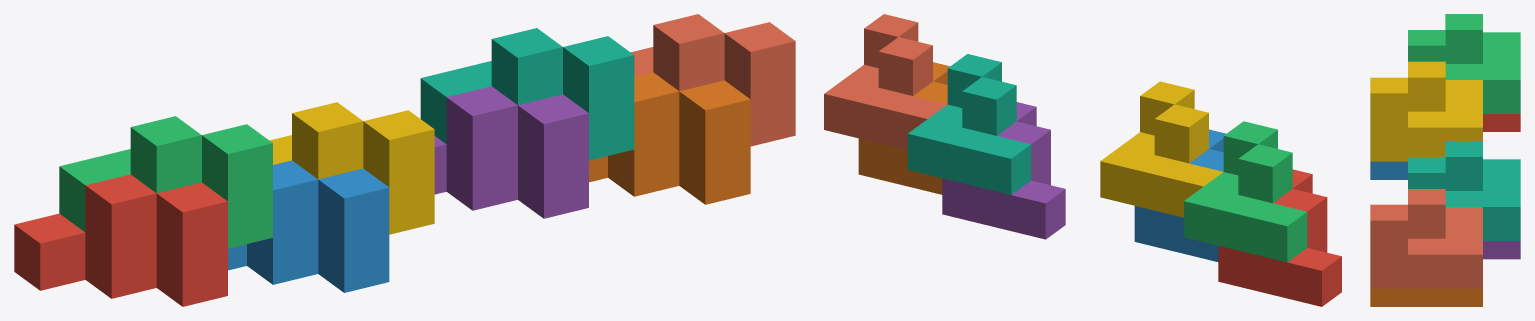
File: tiling.obj
3 views of the same model, side by side, from view 1: azimuth 30°, elevation 25°; view 2: azimuth 150°, elevation 25°; view 3: azimuth 270°, elevation 25° (orthographic). The views are drawn at different scales.
Visible parts, largest first — view 1: copy_1_domain_1, copy_1_domain_5, copy_1_domain_2, copy_1_domain_6, copy_1_domain_7, copy_1_domain_3, copy_1_domain_4, copy_1_domain_8; view 2: copy_1_domain_7, copy_1_domain_3, copy_1_domain_4, copy_1_domain_8, copy_1_domain_1, copy_1_domain_5, copy_1_domain_2, copy_1_domain_6; view 3: copy_1_domain_8, copy_1_domain_4, copy_1_domain_3, copy_1_domain_7, copy_1_domain_6, copy_1_domain_2, copy_1_domain_5, copy_1_domain_1.
Part boxes in pixels (bbox=[...]): copy_1_domain_1: bbox=[14, 174, 227, 306]; copy_1_domain_5: bbox=[434, 86, 588, 218]; copy_1_domain_2: bbox=[228, 160, 389, 292]; copy_1_domain_6: bbox=[589, 72, 750, 204]; copy_1_domain_7: bbox=[420, 28, 634, 160]; copy_1_domain_3: bbox=[59, 116, 272, 248]; copy_1_domain_4: bbox=[269, 102, 434, 234]; copy_1_domain_8: bbox=[631, 14, 795, 146]; copy_1_domain_7: bbox=[907, 54, 1031, 194]; copy_1_domain_3: bbox=[1184, 121, 1307, 262]; copy_1_domain_4: bbox=[1100, 81, 1222, 217]; copy_1_domain_8: bbox=[824, 14, 947, 150]; copy_1_domain_1: bbox=[1218, 169, 1341, 306]; copy_1_domain_5: bbox=[942, 102, 1065, 239]; copy_1_domain_2: bbox=[1134, 129, 1225, 261]; copy_1_domain_6: bbox=[858, 62, 949, 194]; copy_1_domain_8: bbox=[1370, 189, 1482, 288]; copy_1_domain_4: bbox=[1370, 61, 1482, 161]; copy_1_domain_3: bbox=[1408, 14, 1520, 113]; copy_1_domain_7: bbox=[1408, 141, 1520, 240]; copy_1_domain_6: bbox=[1370, 288, 1482, 306]; copy_1_domain_2: bbox=[1370, 161, 1407, 179]; copy_1_domain_5: bbox=[1483, 241, 1520, 259]; copy_1_domain_1: bbox=[1483, 114, 1520, 131].
Size of the model in its own units: 15 by 3 by 4.
